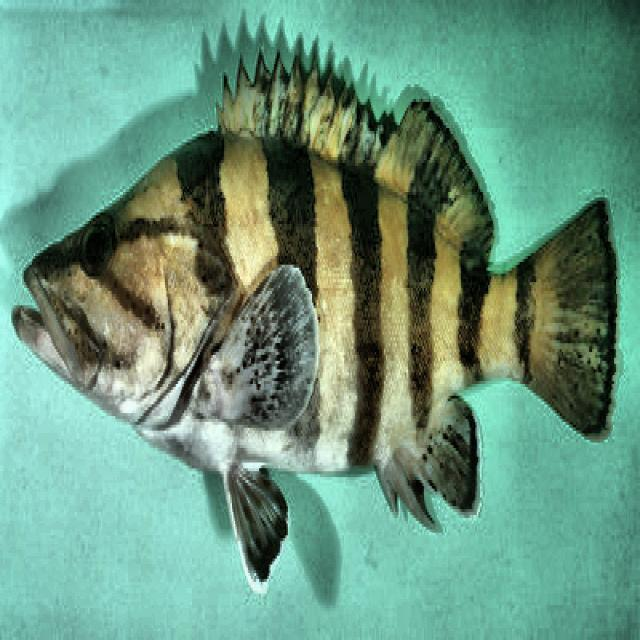fish: (11, 47, 621, 595)
